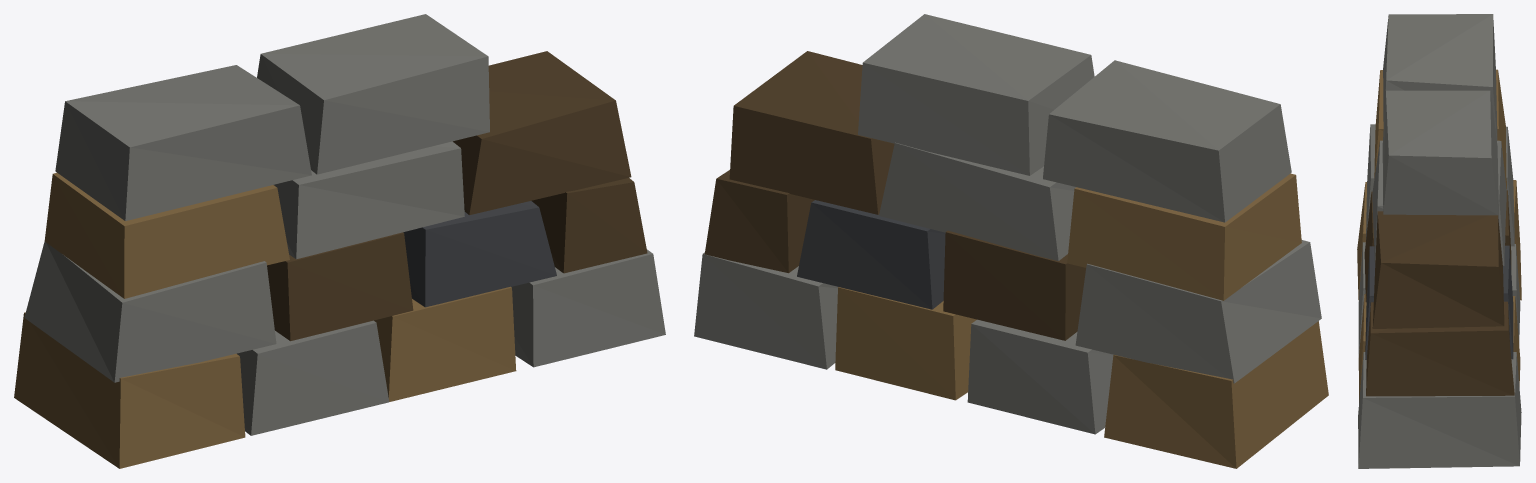
File: wall_drystone.glb
3 views of the same model, side by side, from view 1: azimuth 30°, elevation 25°; view 2: azimuth 150°, elevation 25°; view 3: azimuth 270°, elevation 25° (orthographic). The views are drawn at different scales.
Parts seen in each view (by area): view 1: wall_drystone; view 2: wall_drystone; view 3: wall_drystone.
Part boxes in pixels (<box>): wall_drystone: <box>14,14,665,468</box>; wall_drystone: <box>694,14,1328,468</box>; wall_drystone: <box>1357,14,1521,468</box>.
Size of the model in its own units: 2 by 1.05 by 0.6283.
